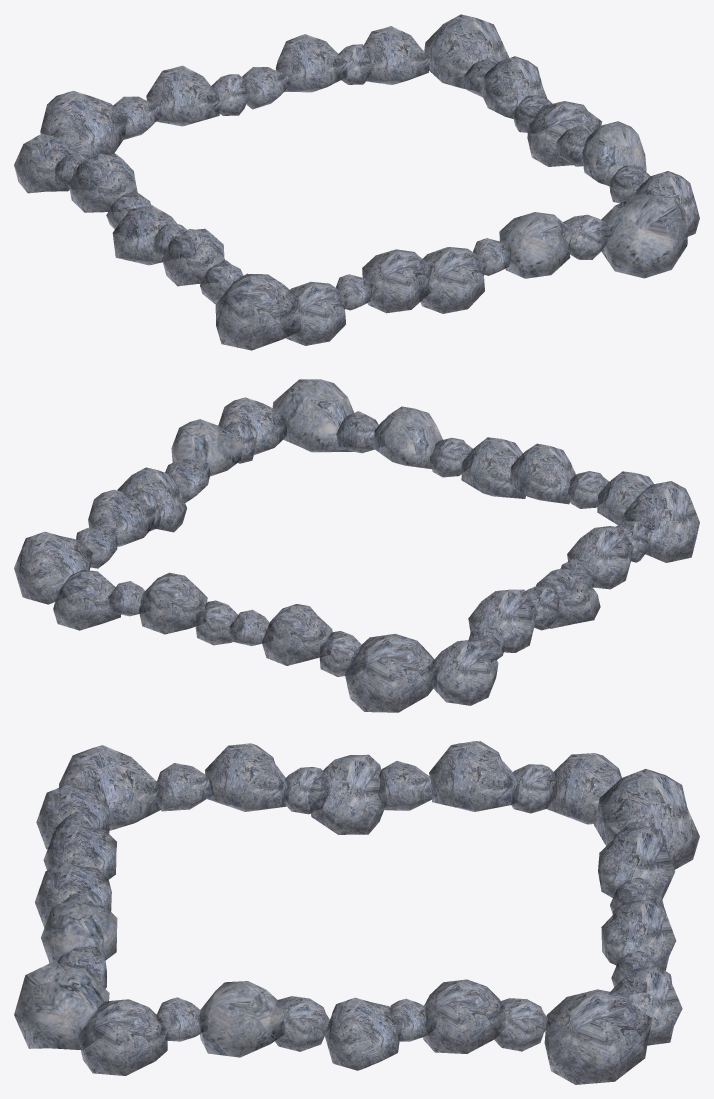
Rendered from stone.gltf.
3 views of the same model, one above another, from view 1: azimuth 30°, elevation 25°; view 2: azimuth 150°, elevation 25°; view 3: azimuth 270°, elevation 25° (orthographic). The views are drawn at different scales.
Parts seen in each view (by area): view 1: 立方体.006, 立方体.031, 立方体.014, 立方体.024, 立方体.010, 立方体.007, 立方体.030, 立方体.028, 立方体.011, 立方体.020, 立方体.019, 立方体.001 (+22 smaller); view 2: 立方体.014, 立方体.006, 立方体.031, 立方体.024, 立方体.016, 立方体.011, 立方体.020, 立方体.010, 立方体.019, 立方体.007, 立方体.023, 立方体.001 (+22 smaller); view 3: 立方体.024, 立方体.006, 立方体.031, 立方体.014, 立方体.004, 立方体.001, 立方体.027, 立方体.015, 立方体.019, 立方体.034, 立方体.005, 立方体.011 (+22 smaller).
Boxes of the visible parts, x1,y1,x2,y2 form: 立方体.006: [596, 194, 688, 278]; 立方体.031: [215, 273, 300, 350]; 立方体.014: [40, 90, 127, 162]; 立方体.024: [422, 14, 509, 89]; 立方体.010: [499, 212, 573, 278]; 立方体.007: [414, 247, 486, 313]; 立方体.030: [277, 281, 347, 345]; 立方体.028: [362, 249, 432, 313]; 立方体.011: [146, 65, 220, 126]; 立方体.020: [275, 34, 347, 92]; 立方体.019: [68, 153, 137, 212]; 立方体.001: [582, 121, 646, 186]; 立方体.014: [345, 633, 438, 712]; 立方体.006: [270, 379, 354, 452]; 立方体.031: [624, 481, 699, 562]; 立方体.024: [14, 531, 92, 604]; 立方体.016: [428, 639, 498, 705]; 立方体.011: [261, 604, 332, 665]; 立方体.020: [139, 572, 207, 634]; 立方体.010: [373, 406, 442, 469]; 立方体.019: [468, 589, 536, 652]; 立方体.007: [461, 437, 529, 498]; 立方体.023: [53, 570, 120, 630]; 立方体.001: [171, 419, 242, 477]; 立方体.024: [544, 989, 652, 1084]; 立方体.006: [14, 962, 109, 1049]; 立方体.031: [59, 745, 162, 830]; 立方体.014: [593, 769, 699, 869]; 立方体.004: [78, 999, 167, 1075]; 立方体.001: [196, 981, 284, 1057]; 立方体.027: [418, 979, 506, 1053]; 立方体.015: [308, 754, 387, 834]; 立方体.019: [429, 741, 519, 811]; 立方体.034: [205, 743, 290, 811]; 立方体.005: [324, 997, 402, 1070]; 立方体.011: [598, 826, 675, 899].
Size of the model in its own units: 2.54 by 0.369 by 2.59.
Materials: 1 (1 with a texture image).
